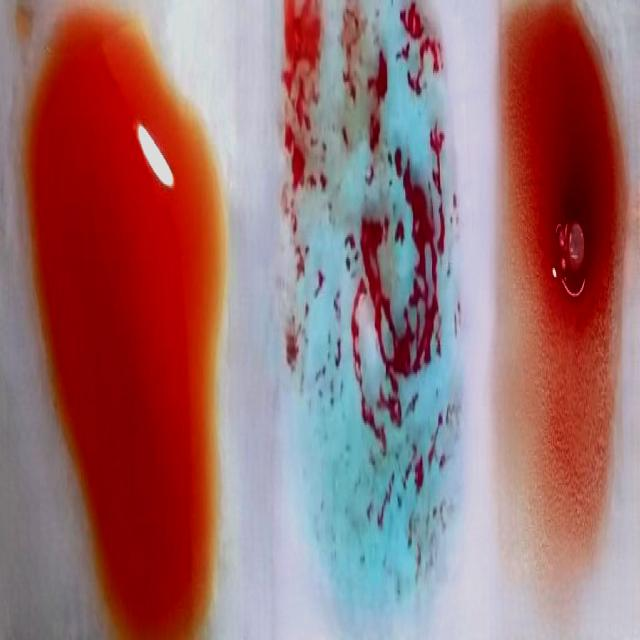A: (274, 0, 458, 607)
D: (496, 9, 626, 588)
